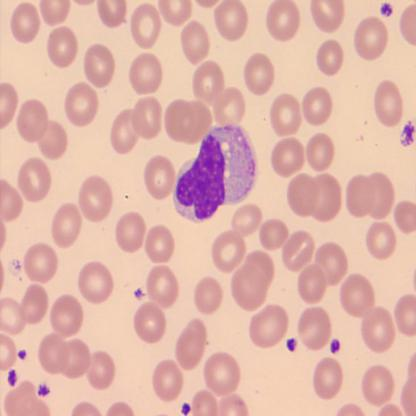Monocyte: (172, 122, 259, 225)
